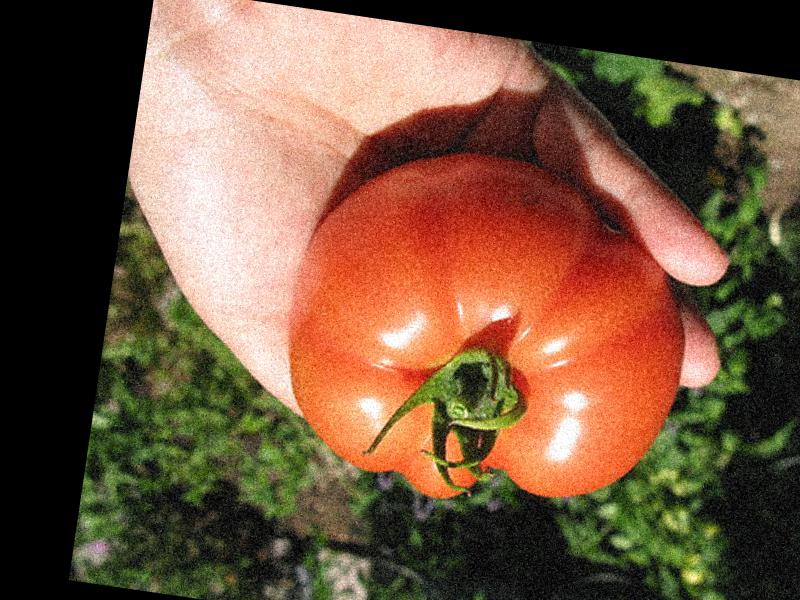Tomato: (270, 135, 708, 529)
